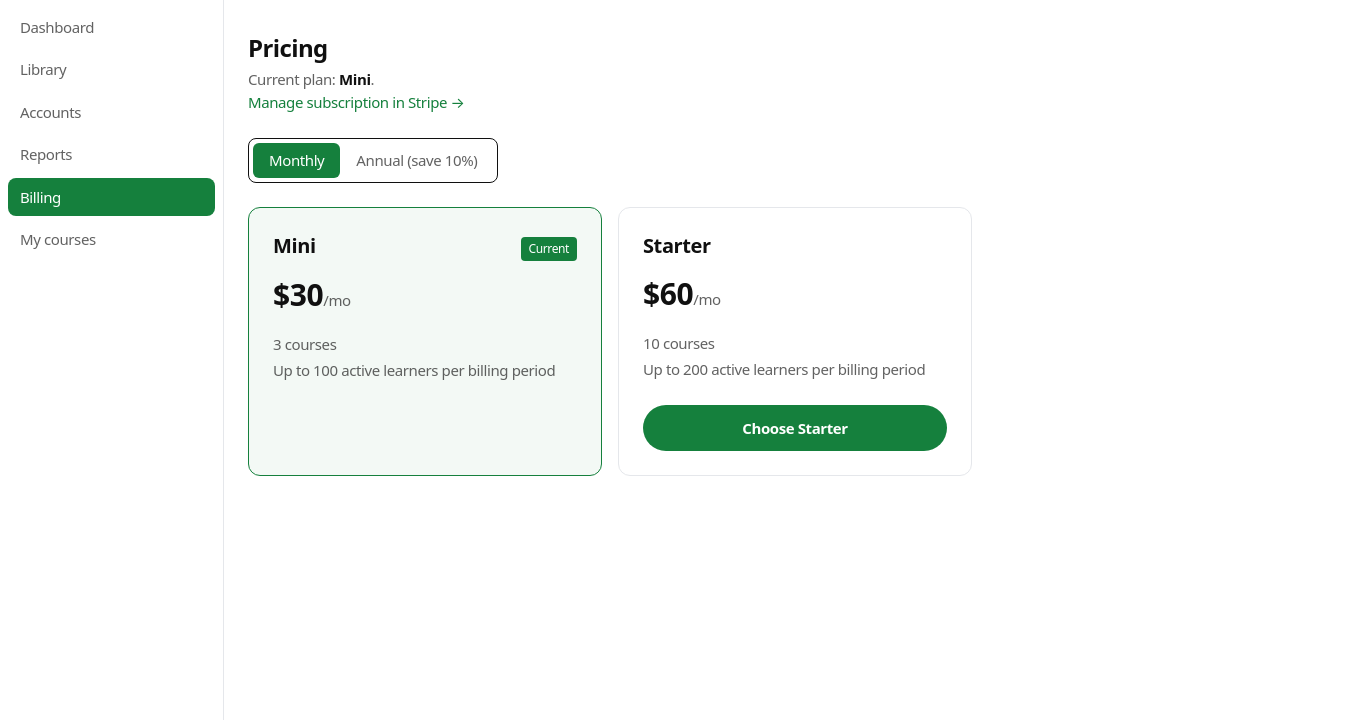
Test case: PricingPage plan change › prices the change, confirms it, and reports what was charged
Click the button "Choose Starter".
click(795, 428)  # box [643,405,947,451]
(page scrolled)
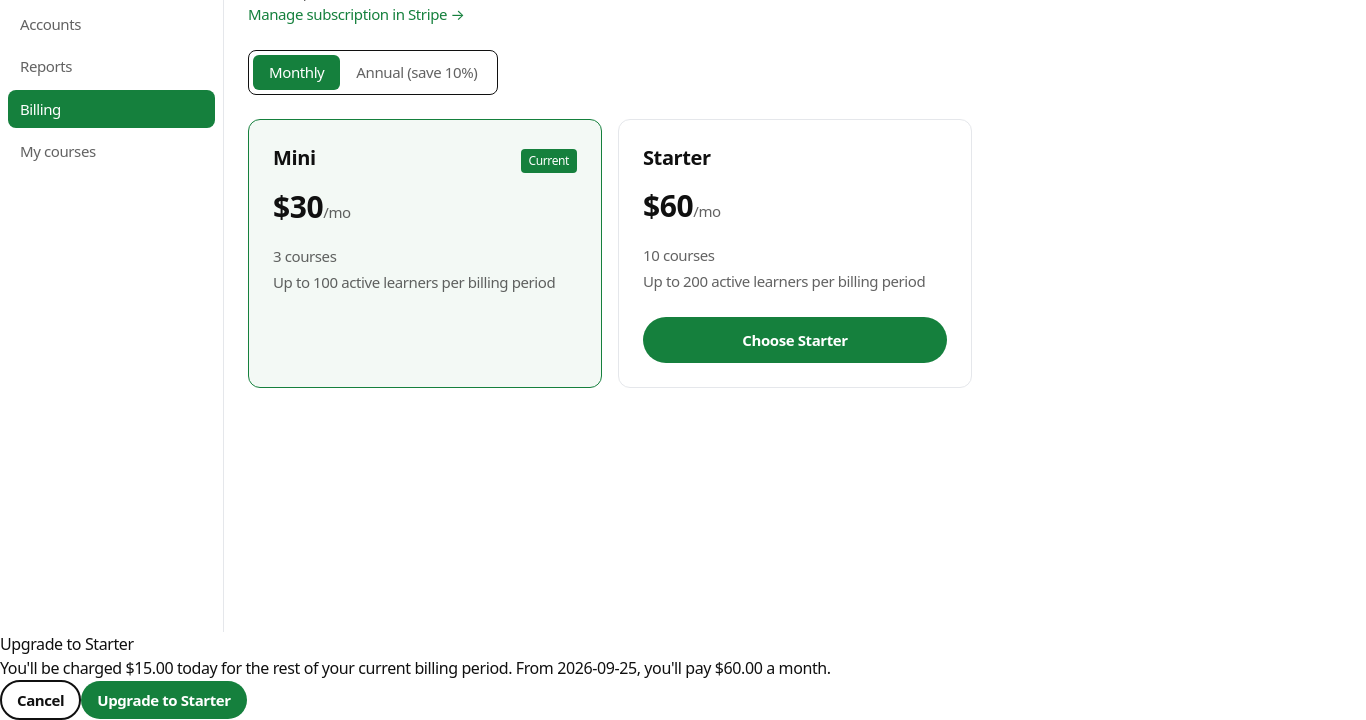
Click the button "Upgrade to Starter".
click(164, 700)  # box [81,681,247,719]
(page scrolled)
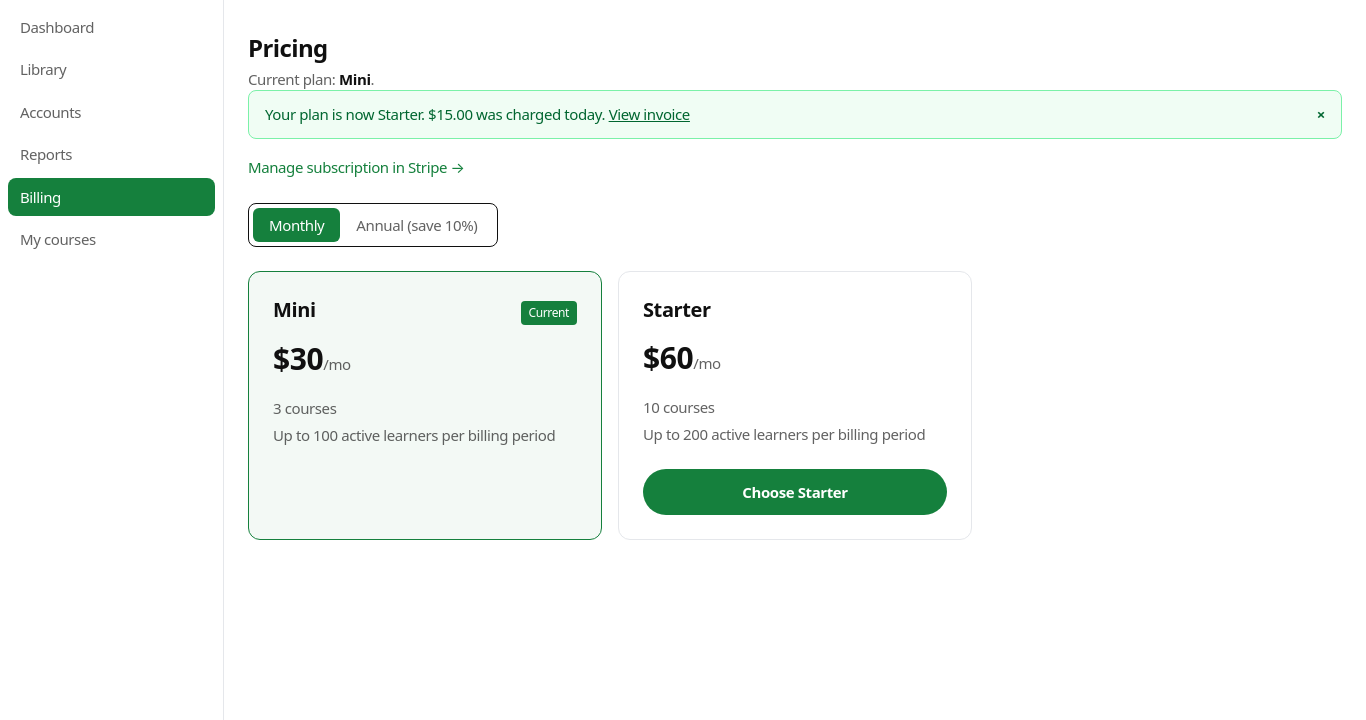
Expected: the text "$15.00 was charged today." is shown, [265,103,690,126]
